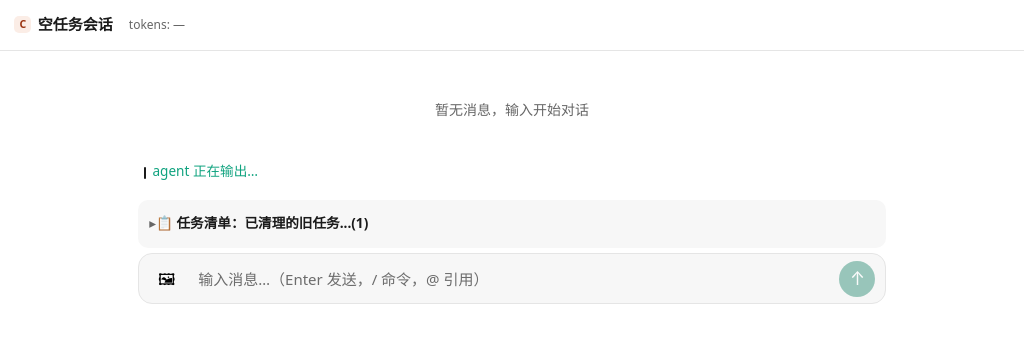
Test: ChatTab send experience › clears the input and shows an optimistic bubble immediately on submit
// 反馈 7-1：不等 PTY 回流，同步清空 + 本地气泡
Type "帮我跑个构建" into the text box with placeholder "输入消息…（Enter 发送，/ 命令，@ 引用）" at (512, 280), box [189,262,835,296]
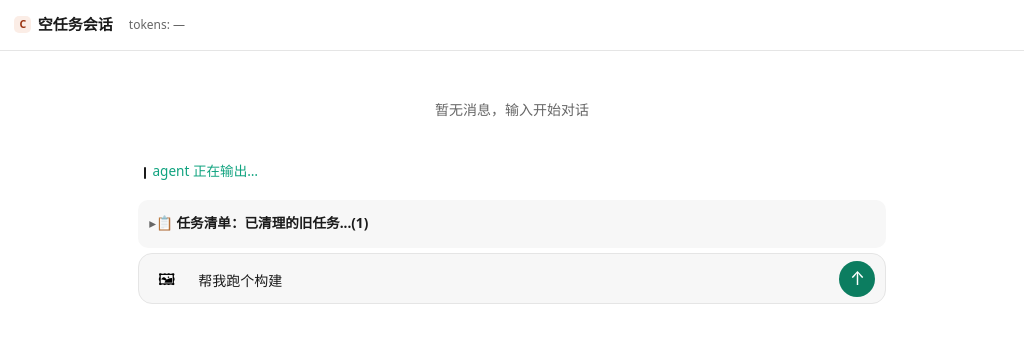
Submit the form with class "chat-input", box [138,253,886,304]
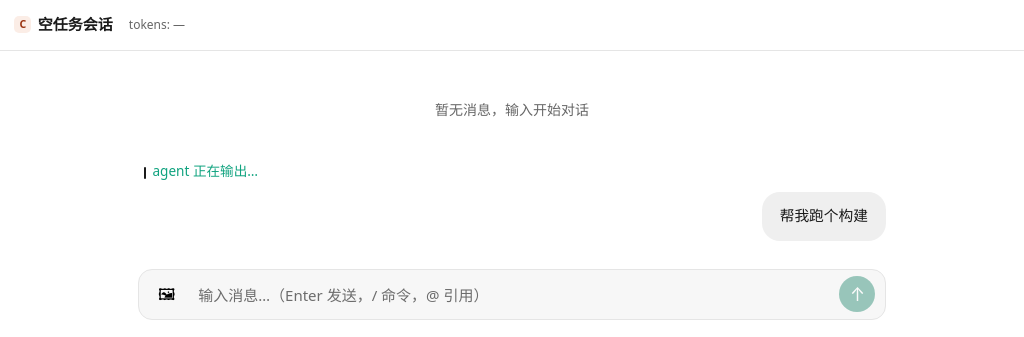
Expected: the text box with placeholder "输入消息…（Enter 发送，/ 命令，@ 引用）" is empty, [189,278,835,312]
Expected: the text "帮我跑个构建" is shown, [780,204,868,224]
